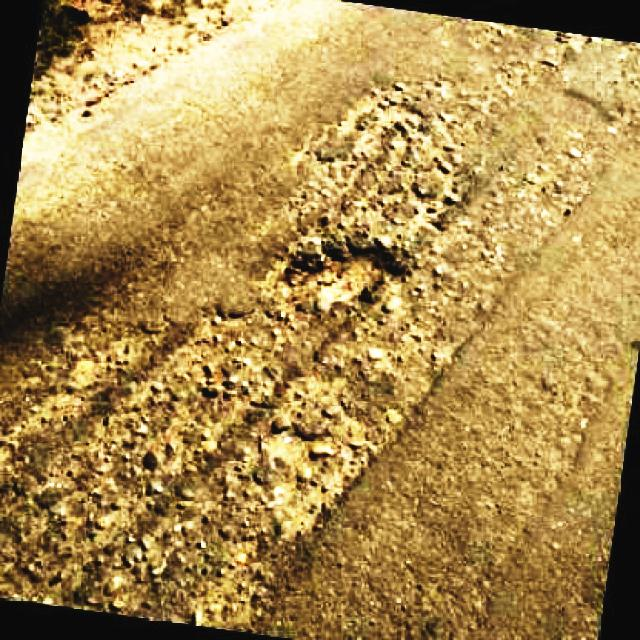pothole: (238, 380, 397, 526), (268, 232, 403, 311)
